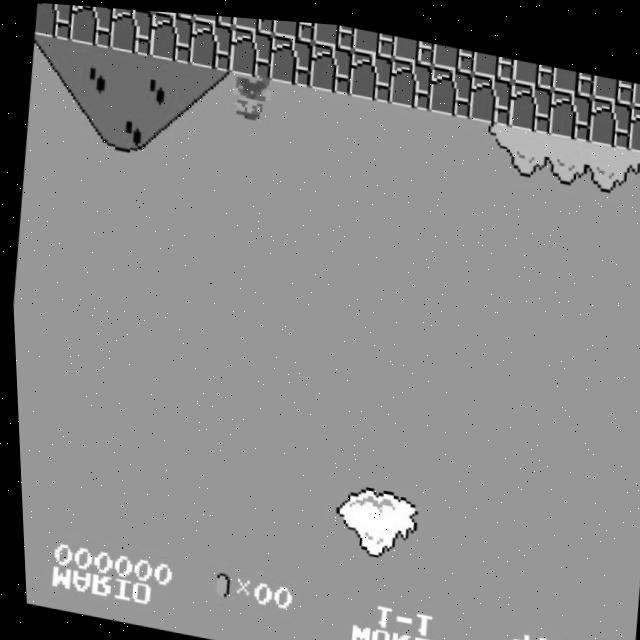11- little_mario: (223, 65, 274, 122)
17- undestructible_block: (226, 22, 274, 76), (266, 29, 314, 83), (346, 44, 394, 98), (386, 51, 434, 105), (585, 87, 633, 141), (306, 37, 354, 90), (466, 66, 514, 119), (187, 15, 234, 69), (426, 58, 473, 112), (506, 73, 553, 127), (147, 9, 195, 61), (546, 80, 593, 133), (107, 6, 155, 54), (67, 4, 114, 48), (33, 2, 74, 39), (391, 29, 435, 60), (550, 58, 594, 89), (590, 65, 634, 96), (351, 22, 395, 52), (431, 37, 475, 67), (471, 44, 515, 74), (511, 51, 555, 81), (311, 18, 355, 46), (271, 16, 315, 38), (625, 94, 640, 146), (232, 14, 276, 31), (192, 11, 235, 24), (630, 73, 640, 101)
